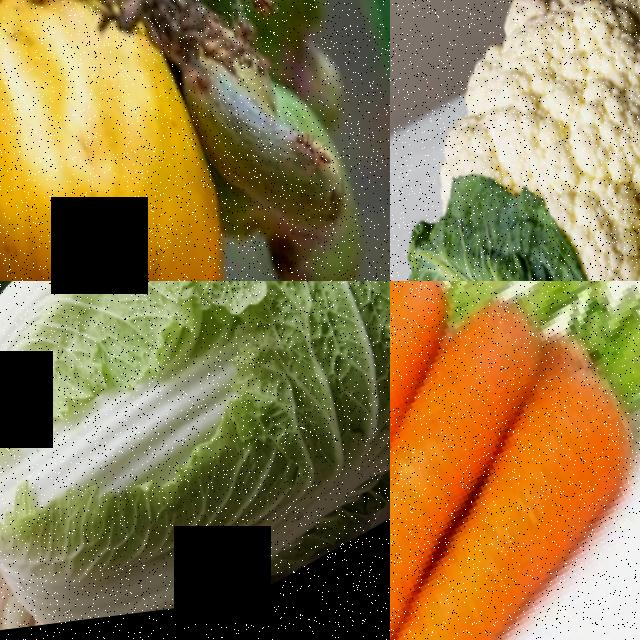cabbage: (0, 281, 390, 640)
carrot: (473, 311, 640, 540), (423, 281, 640, 418), (390, 281, 531, 443)
cashew: (162, 13, 356, 273)
cauliflower: (390, 0, 640, 281)
